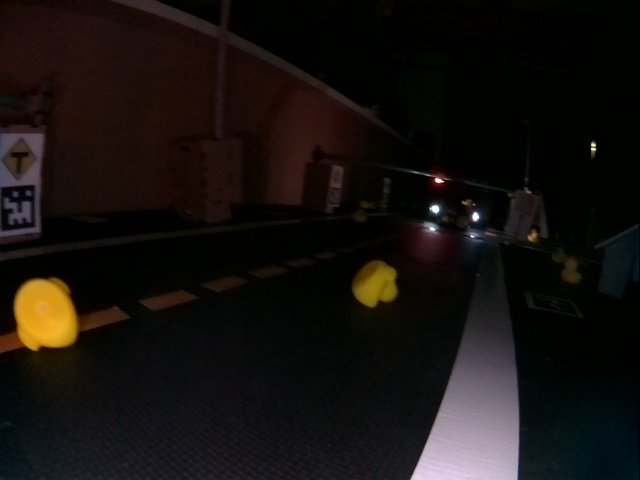Duckie: (14, 277, 77, 350), (353, 260, 395, 308), (562, 258, 580, 283), (354, 210, 365, 223)
Duckiebot: (427, 202, 480, 232)
Intersection sign: (1, 137, 38, 182)
QR code: (3, 185, 37, 231), (524, 290, 580, 317), (329, 188, 337, 206)
Traffic light: (434, 176, 443, 184)
